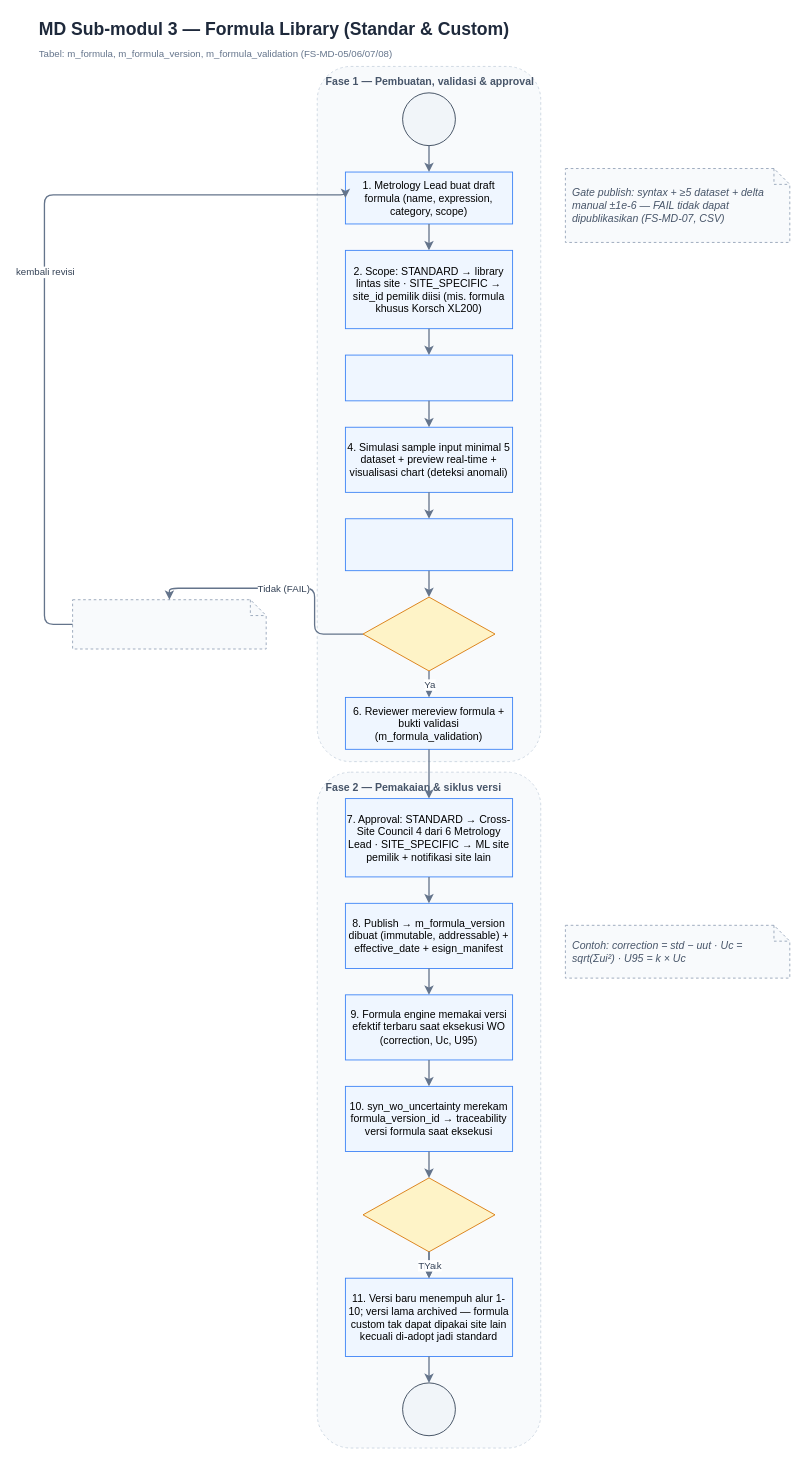
Image size: 805x1463. Some labels were removed from this diagram. Here are the shapes that lost their labels. From the top down, the centre of each, then its label:
At point (428, 119): "Mulai".
At point (429, 377): "3. Validasi mekanik: syntax check parser matematika".
At point (429, 544): "5. Perbandingan vs perhitungan manual — selisih ≤ ±1e-6 (bukti CSV)".
At point (169, 624): "Revisi expression".
At point (428, 633): "Validasi PASS?".
At point (428, 1214): "Revisi formula?".
At point (428, 1409): "Selesai".
